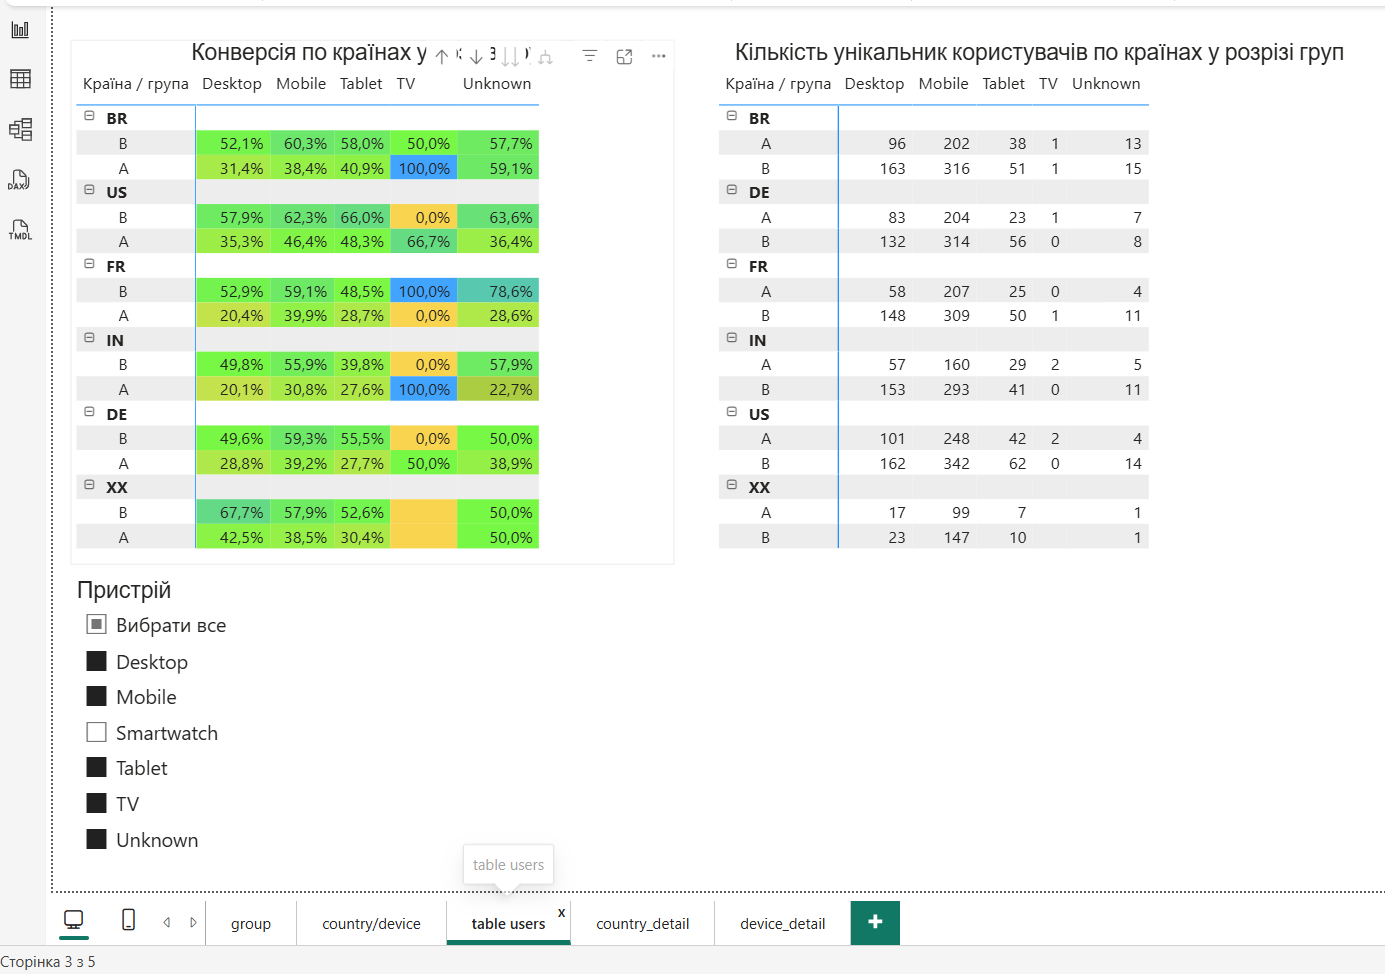

What the dashboard file says about the page in this screenshot:
{"tool":"powerbi","page":{"name":"table users","canvas":[1280,720],"ordinal":2},"visuals":[{"type":"pivotTable","title":"Конверсія по країнах у розрізі груп","fields":{"Values":["Sum(v_segment_agg.conversion_rate)"],"Columns":["v_segment_agg.device_name"],"Rows":["v_segment_agg.country_code","v_segment_agg.group_label"]},"box":[14.5,27.2,490.2,427.6],"z":0},{"type":"slicer","title":"Пристрій","fields":{"Values":["device.device_name"]},"box":[14.5,464.8,160.7,239.7],"z":1000},{"type":"pivotTable","title":"Кількість унікальник користувачів по країнах  у розрізі груп","fields":{"Values":["Sum(v_segment_agg.total_conversions)"],"Rows":["v_segment_agg.country_code","v_segment_agg.group_label"],"Columns":["device.device_name"]},"box":[536.5,27.2,531.1,427.6],"z":2000}]}

Visuals, with their boxes on the page's 1280x720 design canvas (x1, y1, x2, y2). These are canvas units, not pixel positions in the 1385x974 screenshot, which may show the page scaled, cropped or inside an application window:
"Конверсія по країнах у розрізі груп" pivotTable: rect(14, 27, 505, 455)
"Пристрій" slicer: rect(14, 465, 175, 704)
"Кількість унікальник користувачів по країнах  у розрізі груп" pivotTable: rect(536, 27, 1068, 455)
